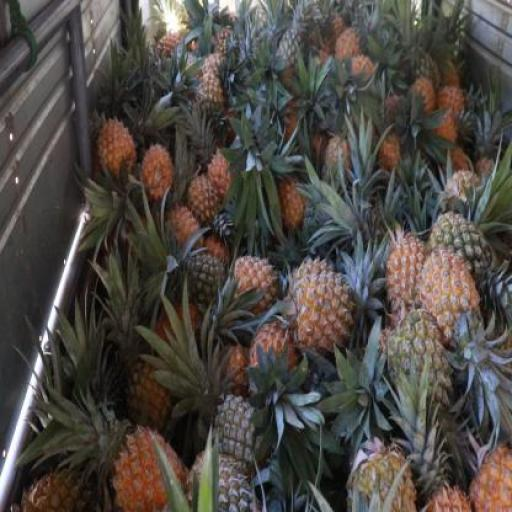------------------------------: (429, 214, 495, 328), (386, 316, 451, 420), (122, 362, 173, 437), (194, 74, 226, 134)
Pineapple - v8 v1: (420, 251, 482, 353), (114, 432, 192, 511), (292, 260, 355, 355), (387, 241, 436, 329), (248, 318, 295, 398), (99, 121, 139, 181), (236, 258, 278, 307), (188, 174, 226, 222), (145, 144, 174, 203)
